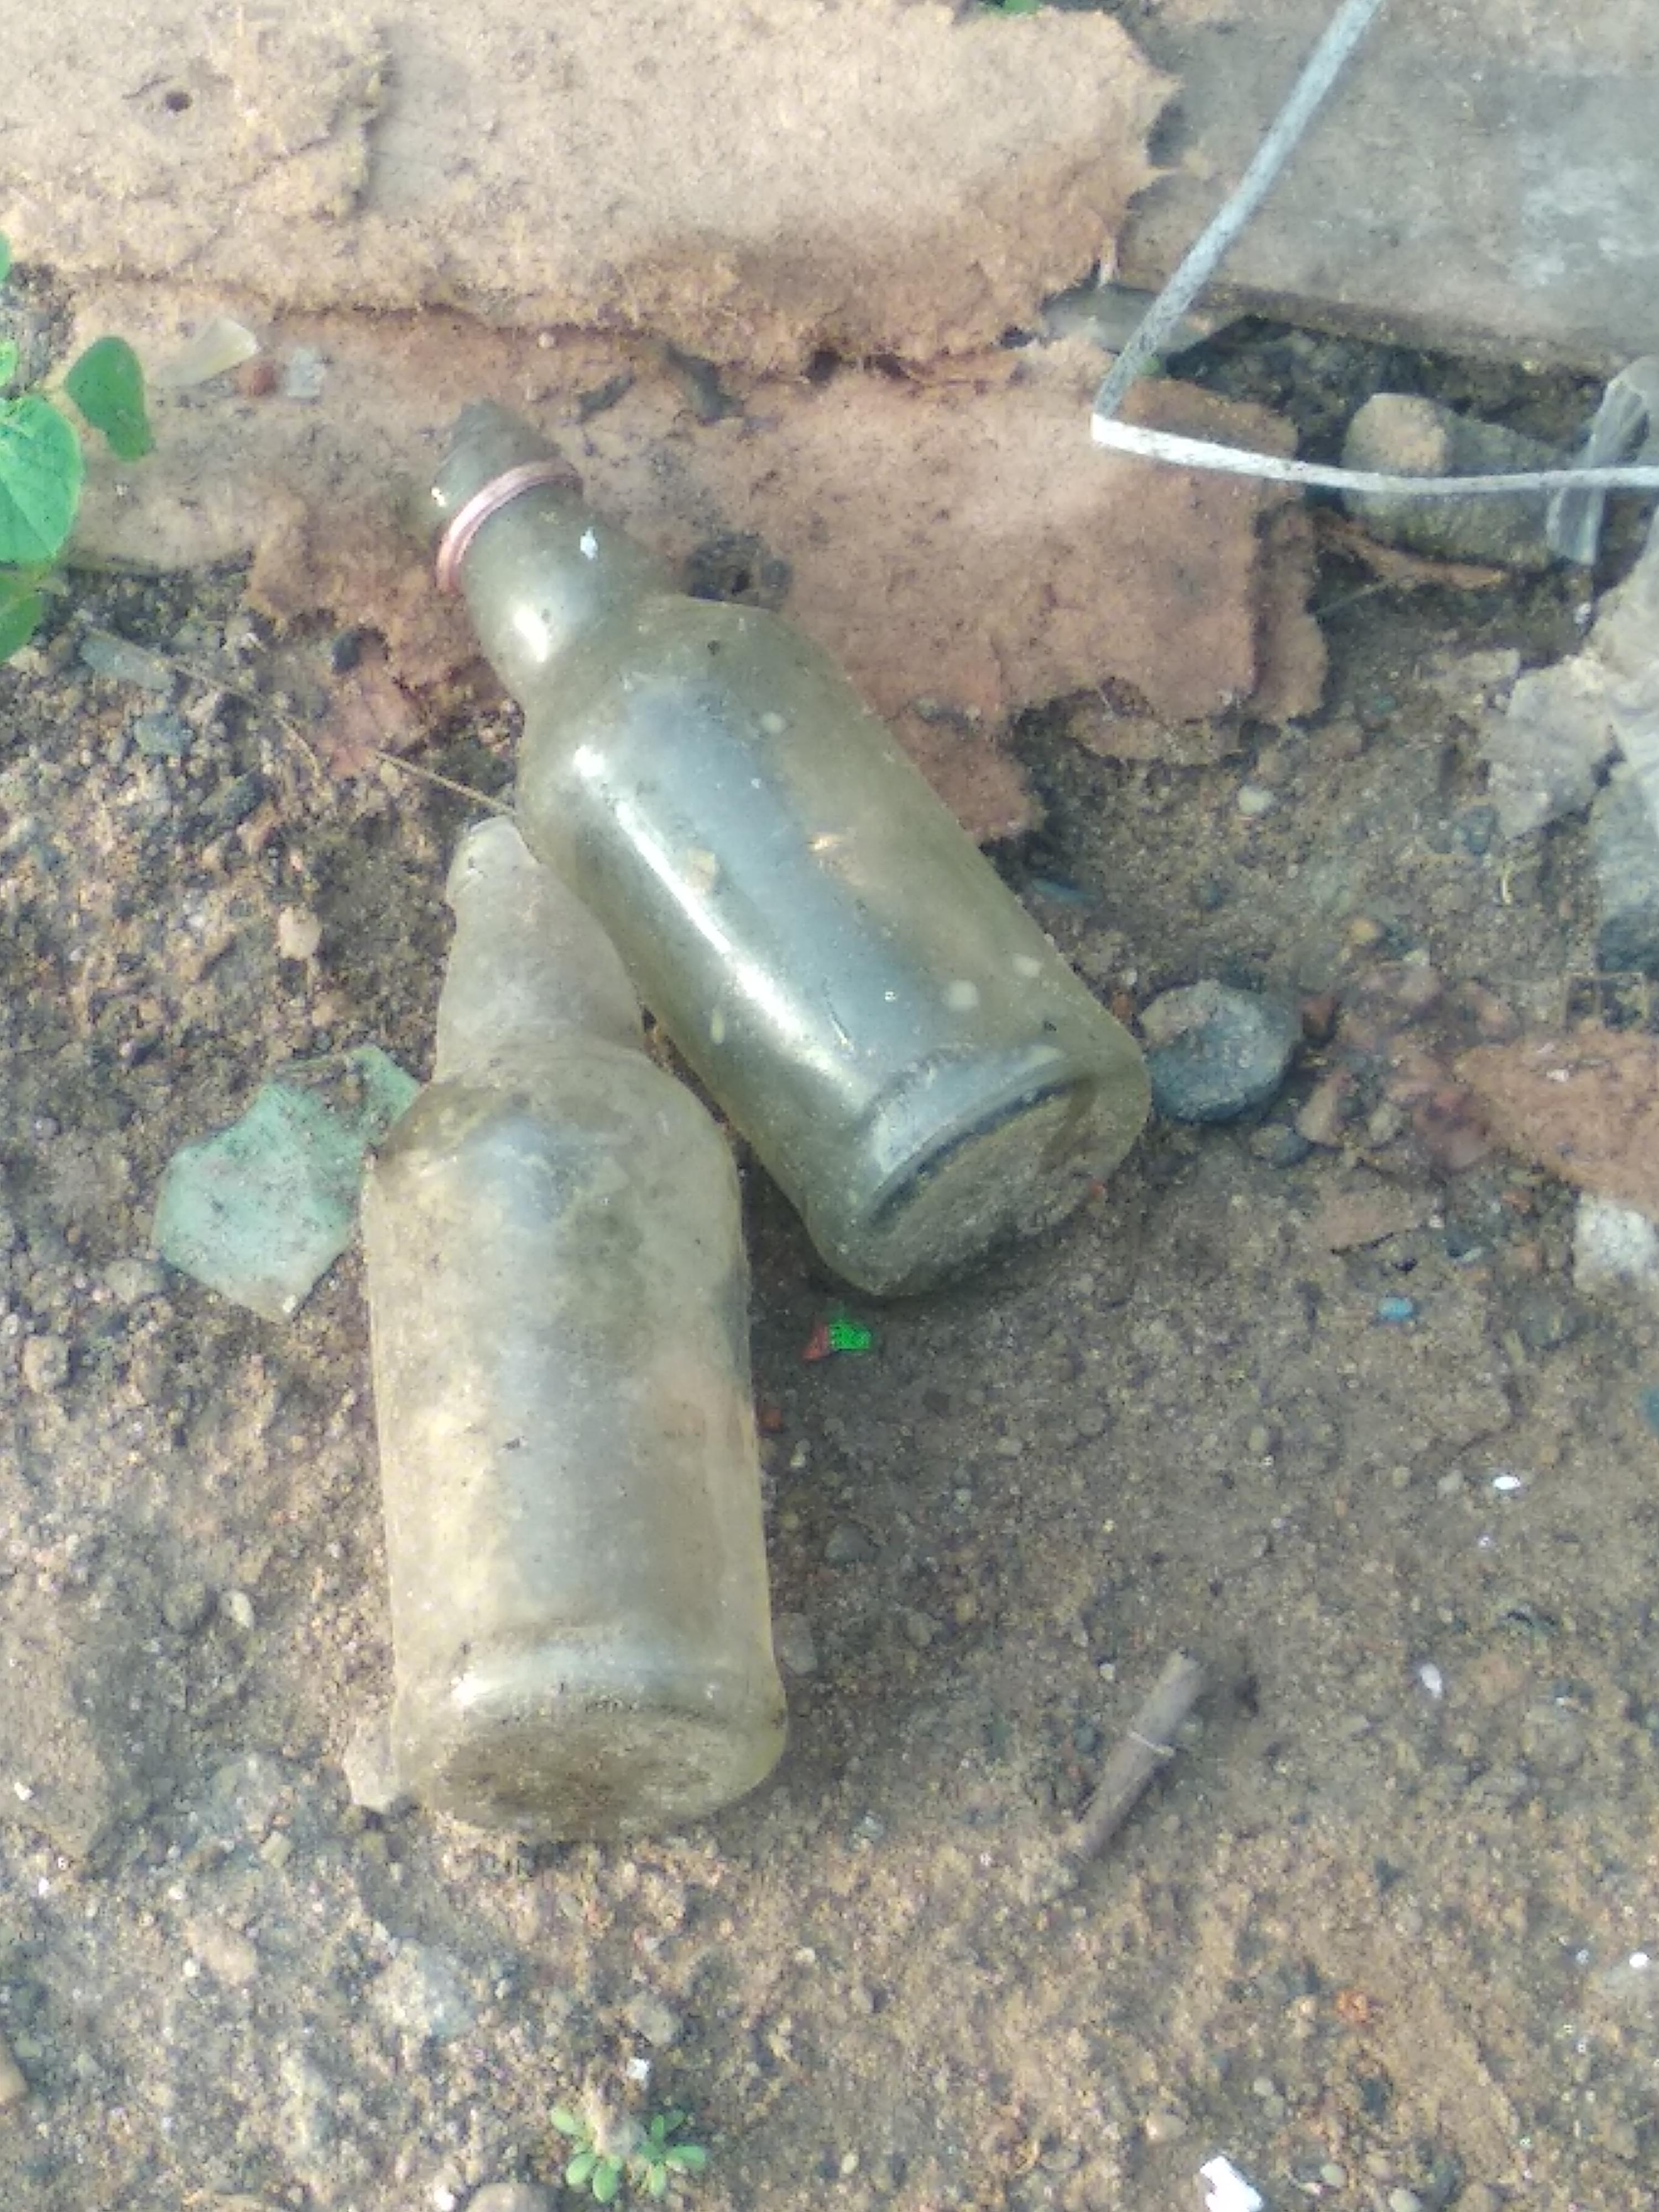trash: (329, 371, 1187, 1846)
